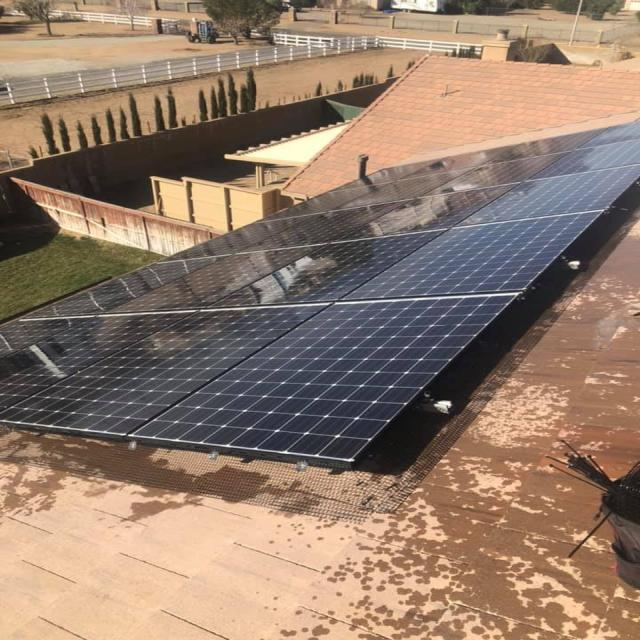clean-solar-panel: (2, 124, 638, 465)
